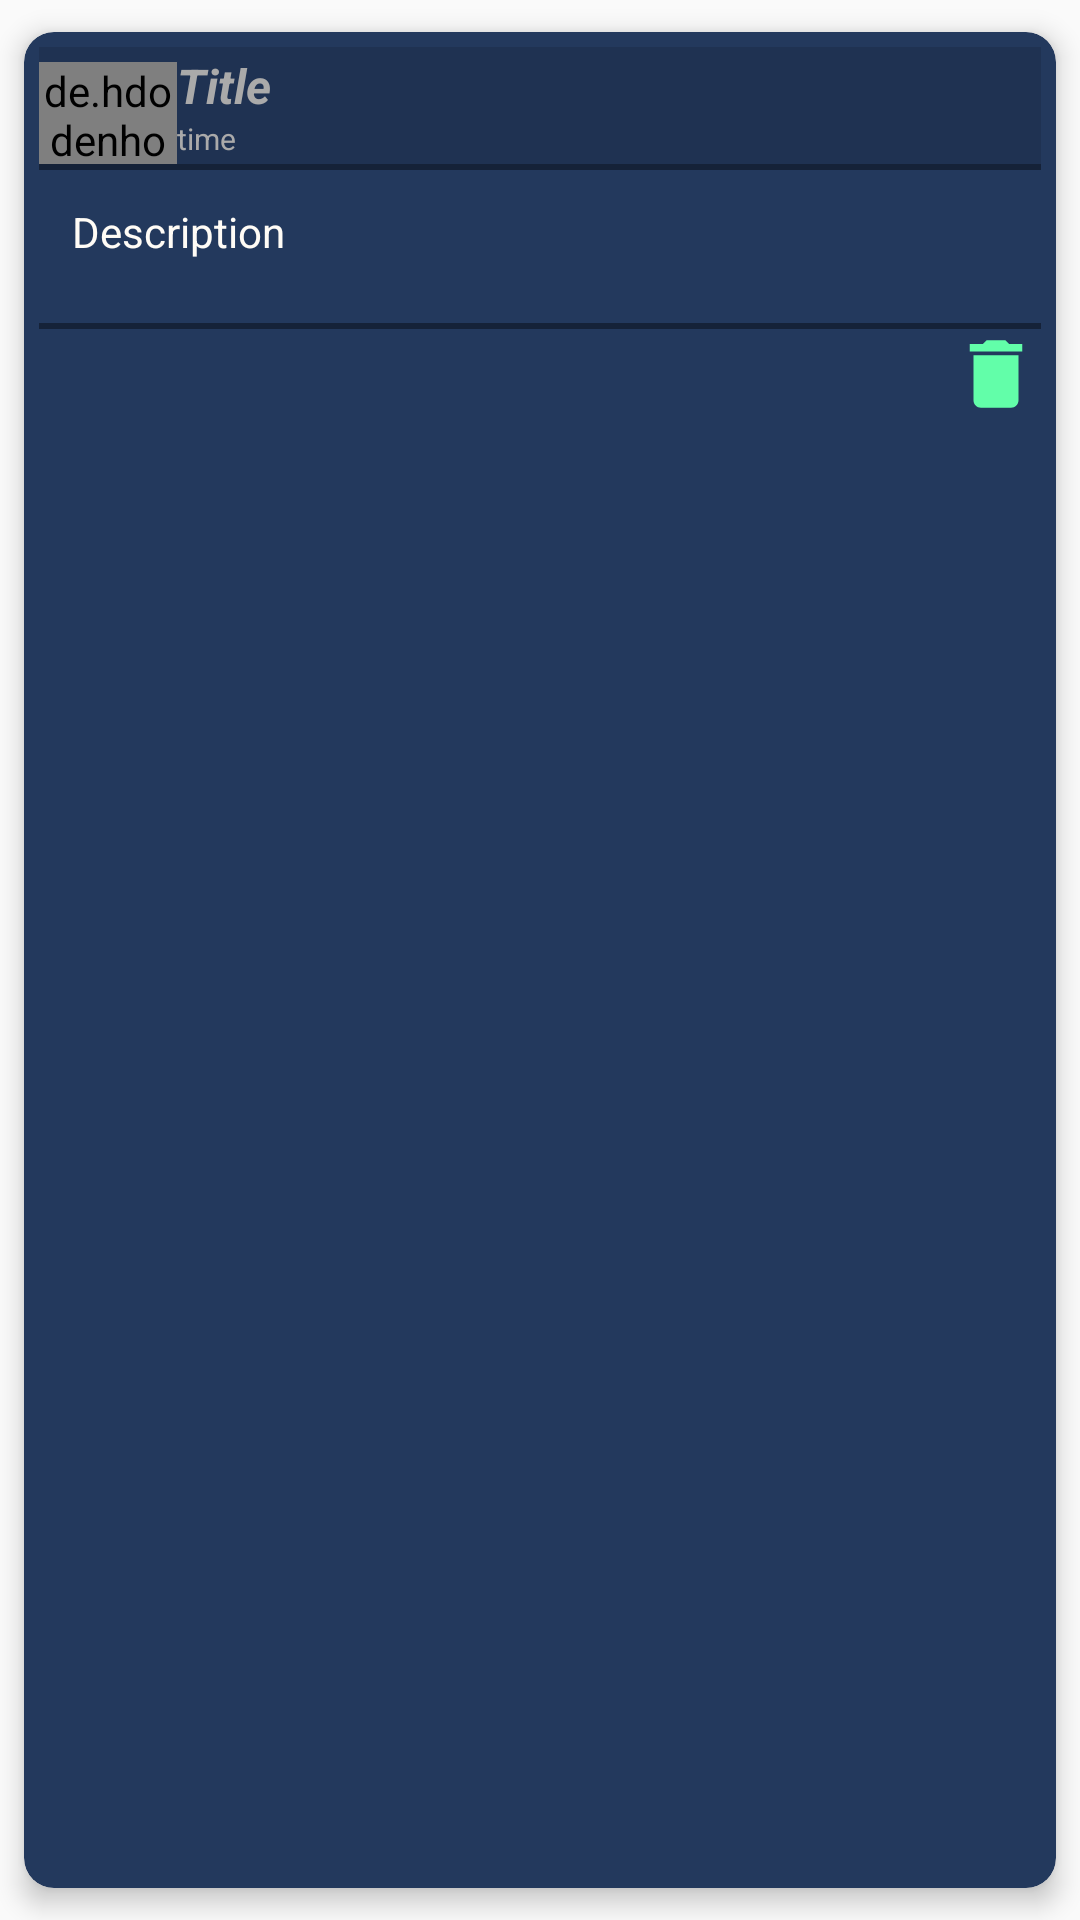

Point at icon controls on the screen. Image size 1080px×1920px, points as (x,y).
delete: (996,374)
